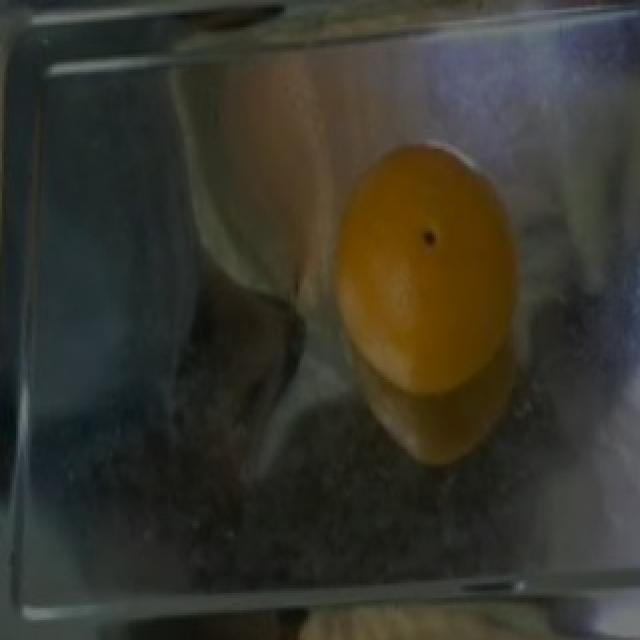Fruit: (306, 119, 536, 444)
